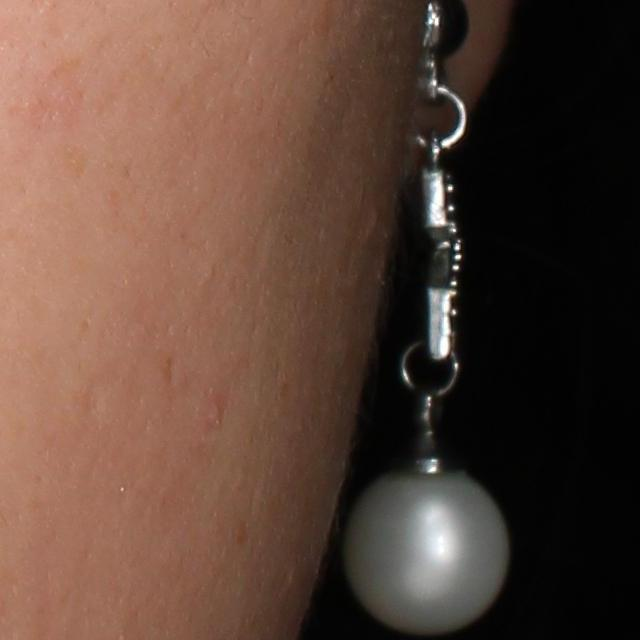papule: (202, 396, 225, 429)
